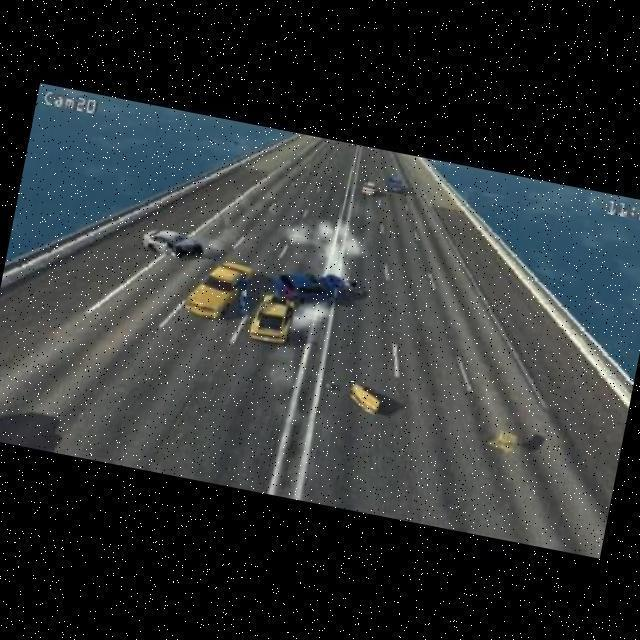accident: (241, 254, 368, 361)
